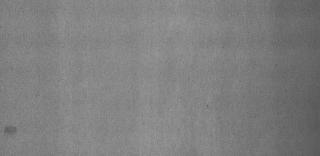oil spot: (4, 124, 18, 138)
